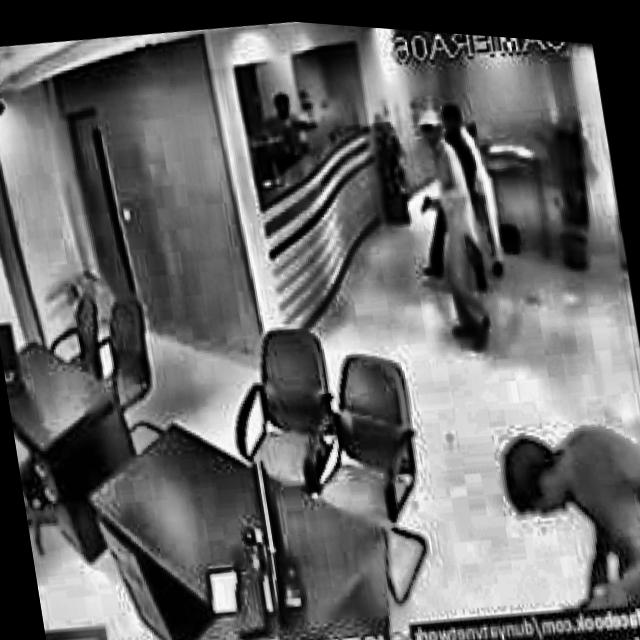robbery: (394, 82, 527, 356)
